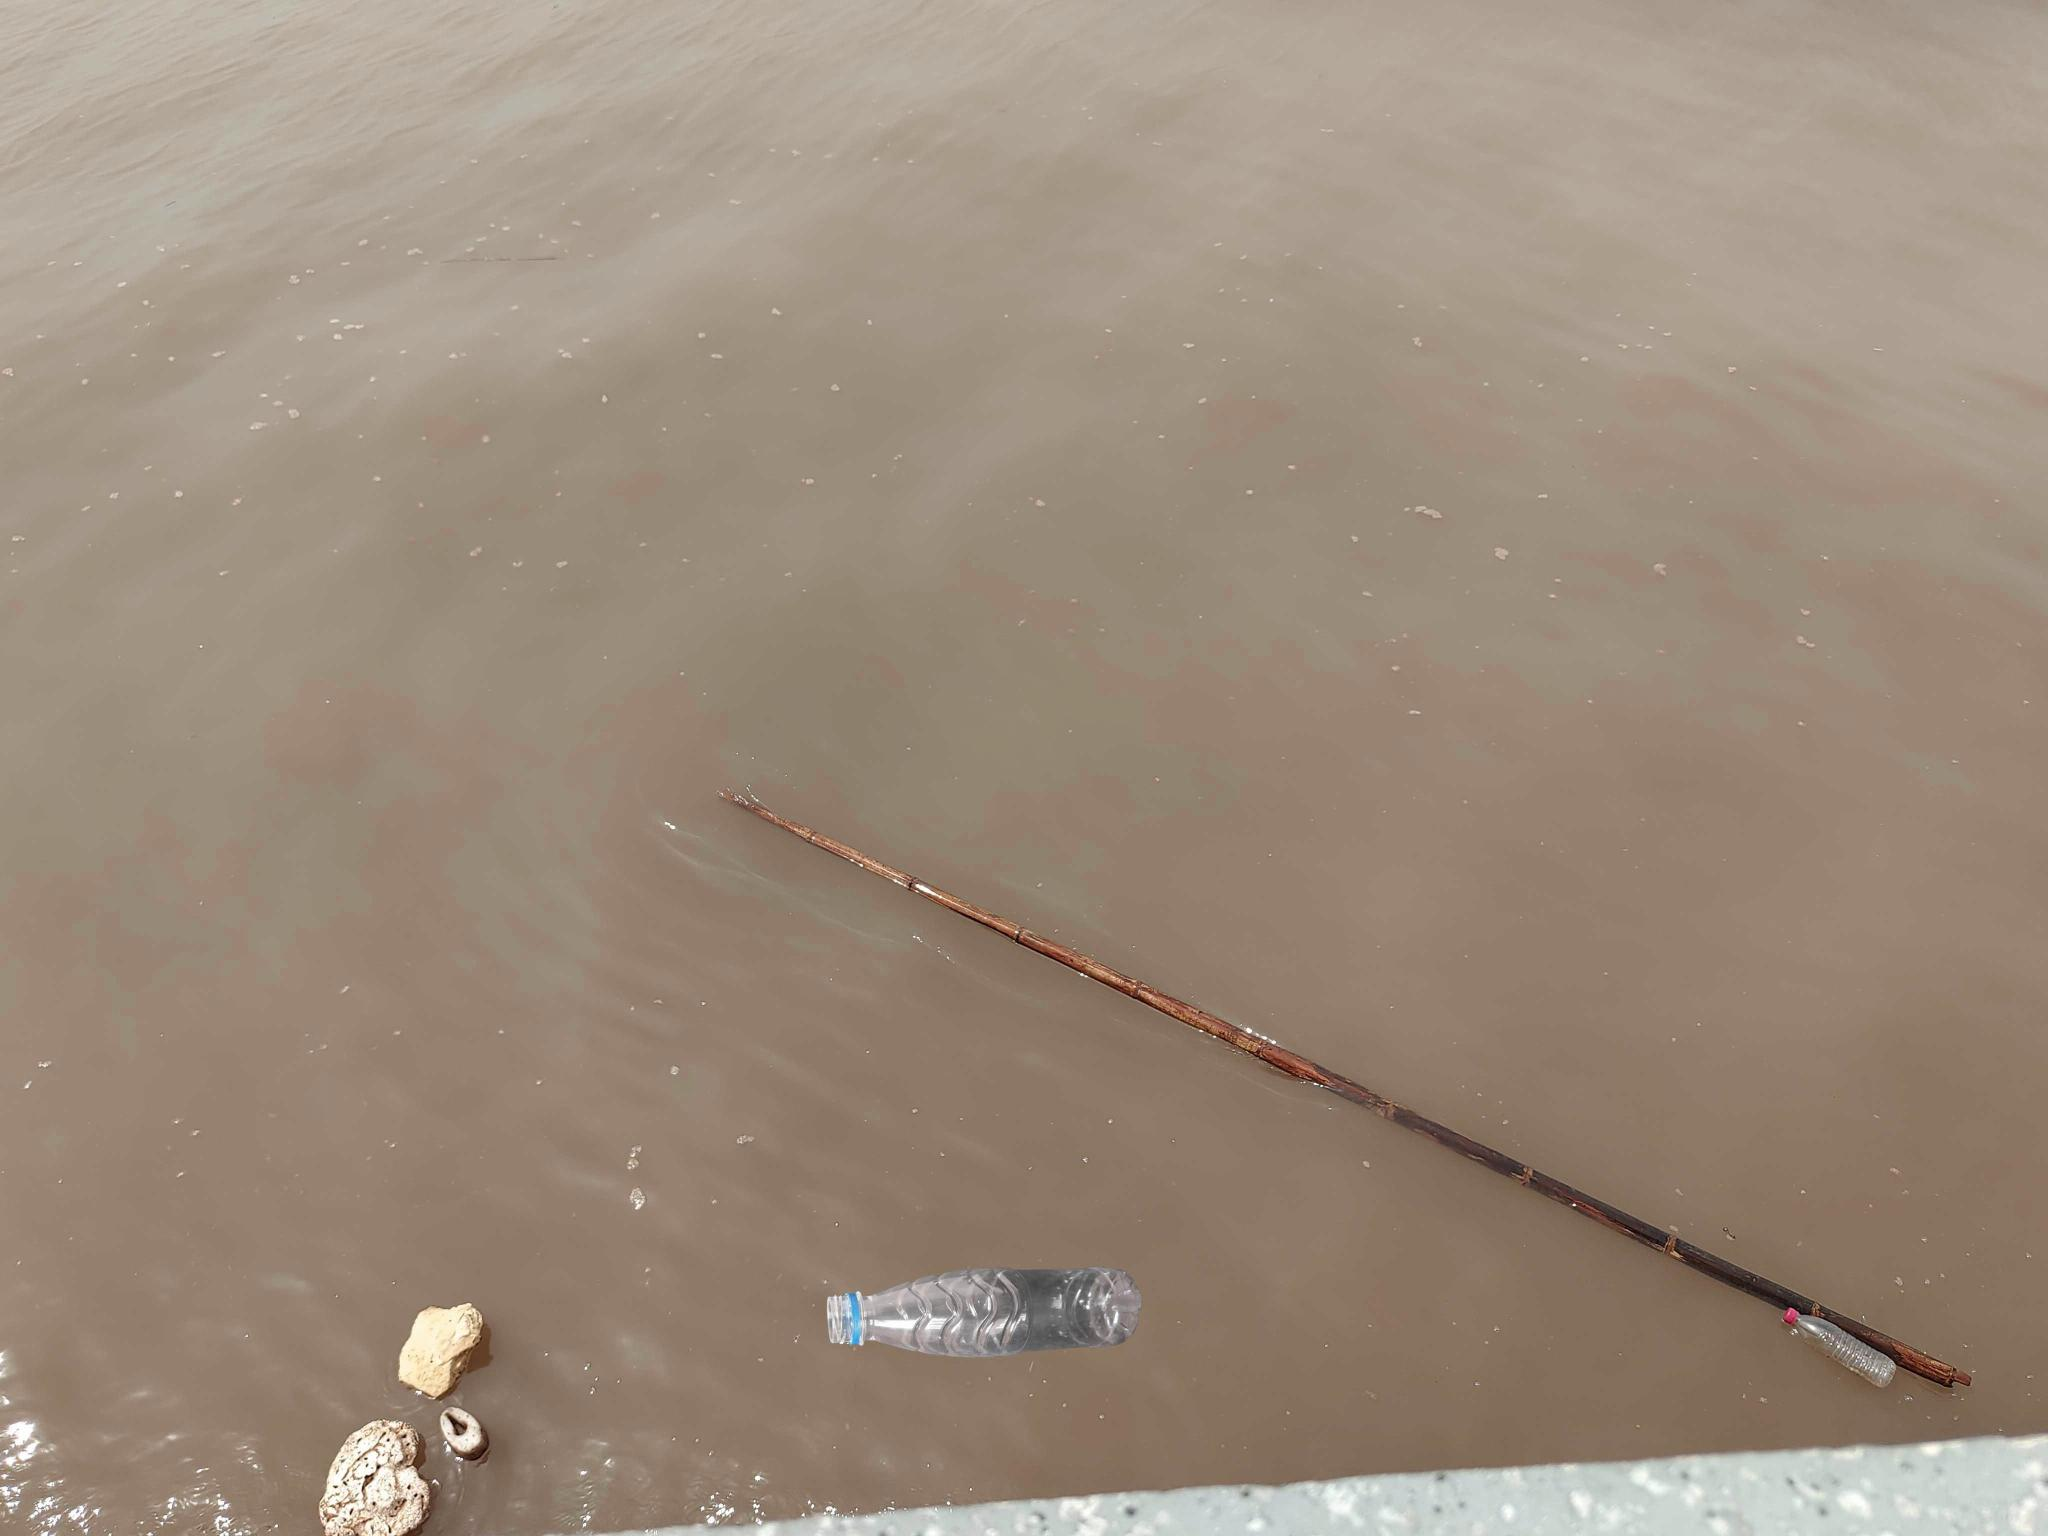Plastic: (821, 1257, 1145, 1368)
